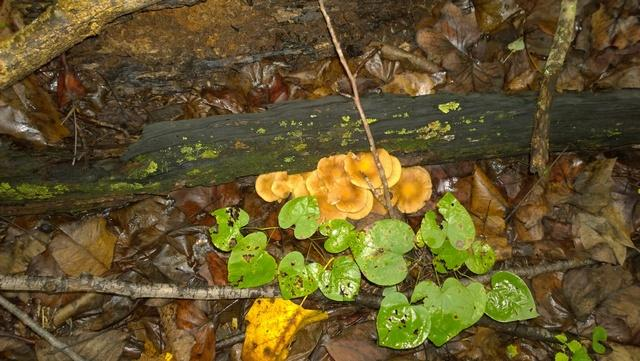edible_mushroom: (258, 152, 425, 217)
